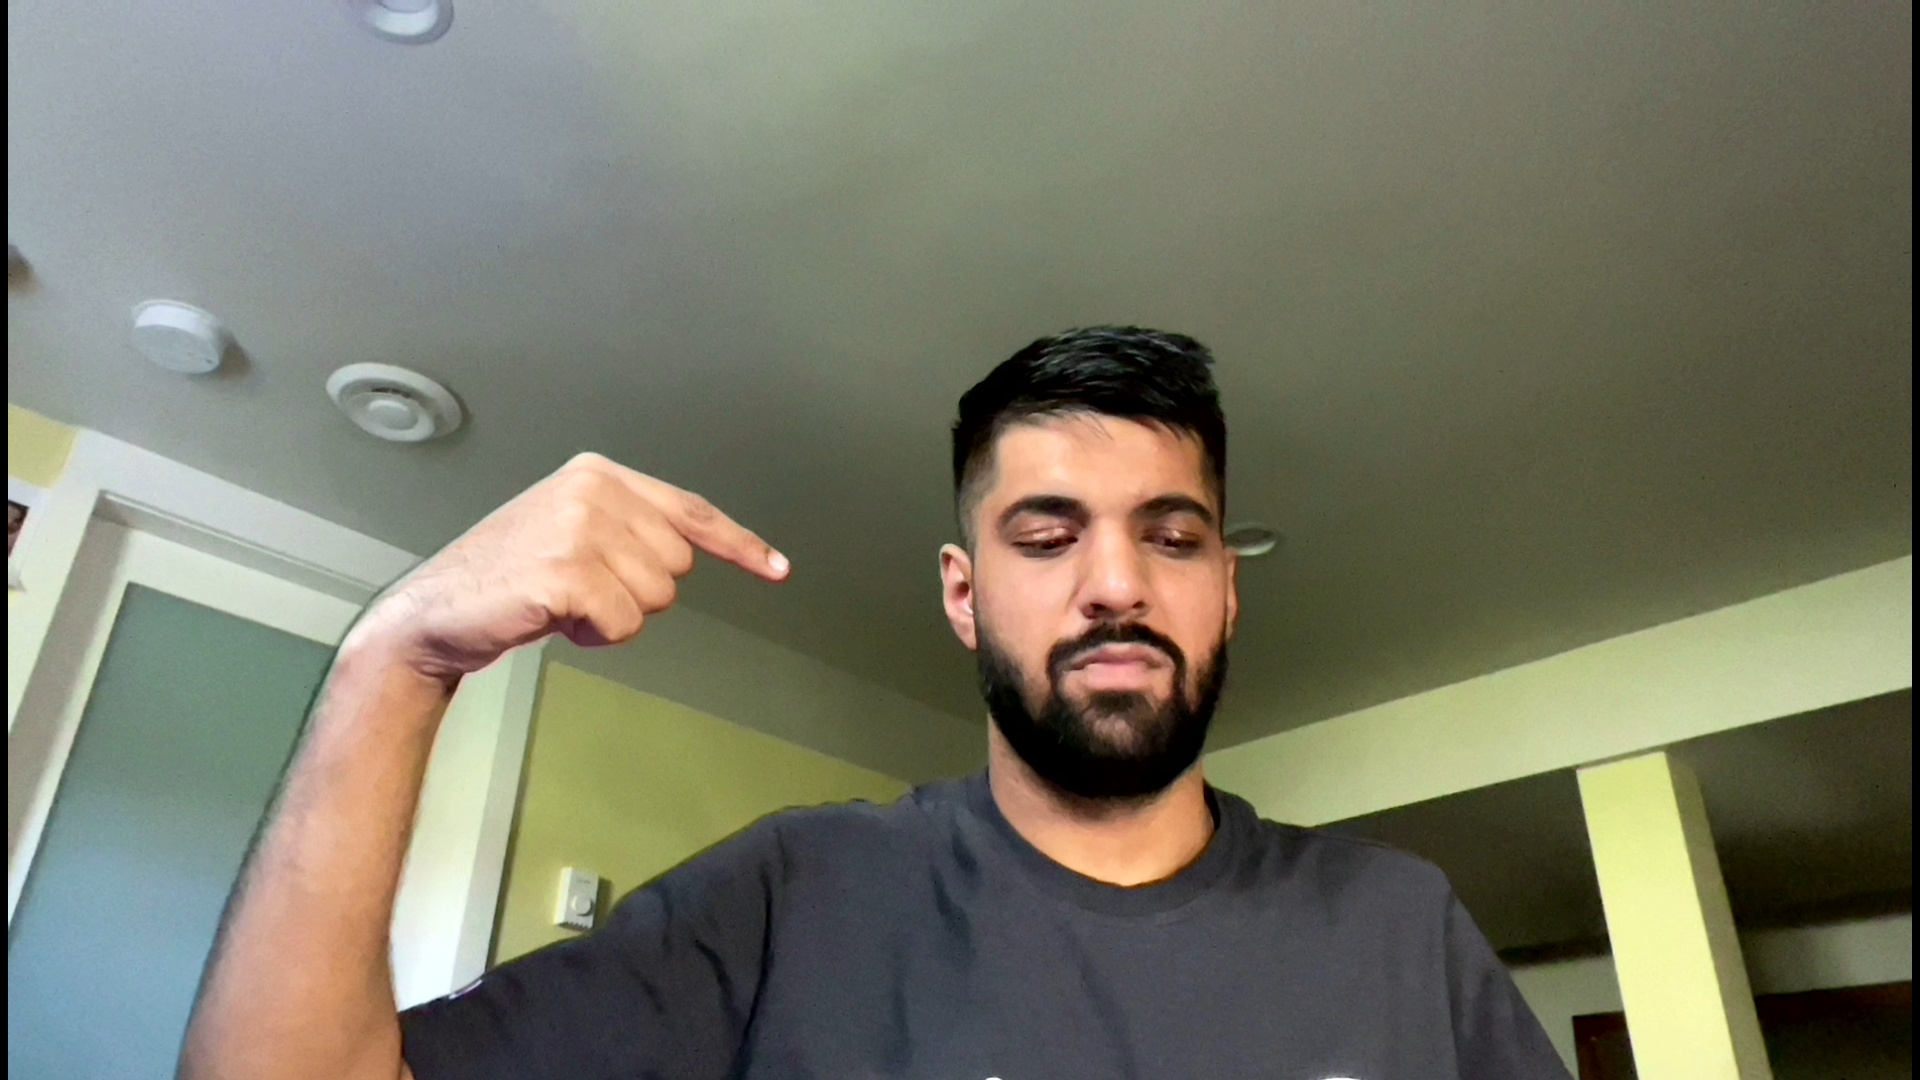Vikrant: (409, 439, 795, 688)
